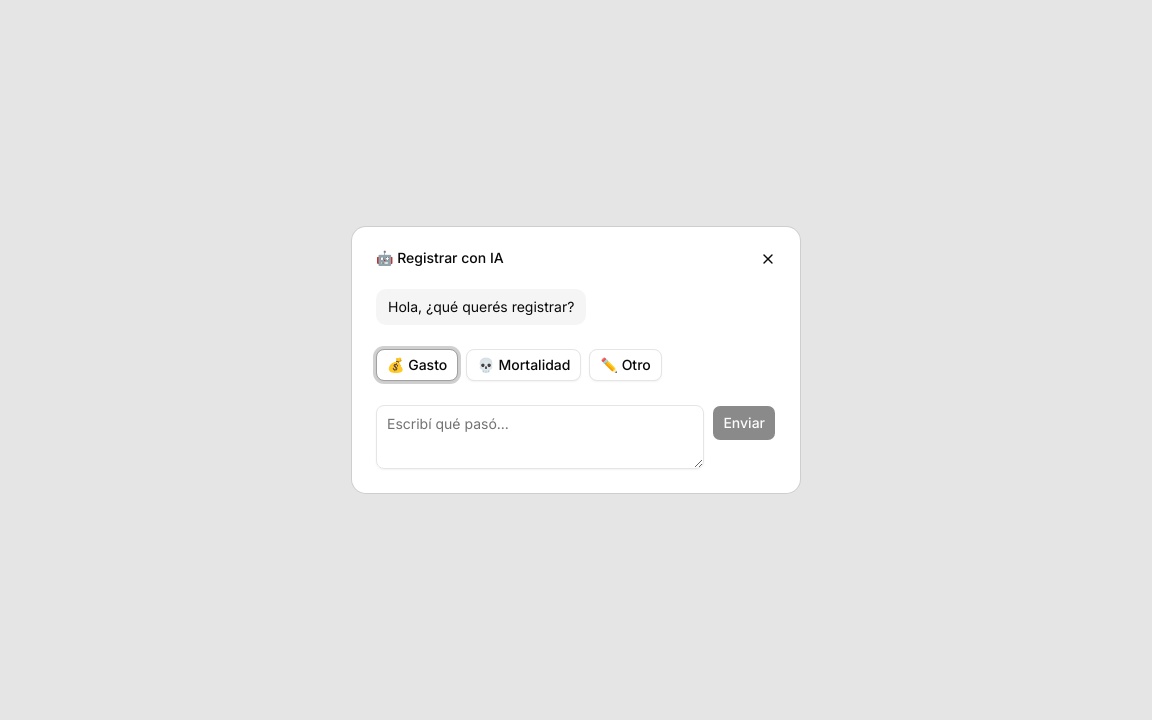
Test: RegistrarConIAModal — C1 wire-up backend integration state transitions chat-like › query resolves logMortality → confirm-card bubble rendered con count + cause + DD/MM/YYYY + lotName
Type "15 muertes pollos" into the text box.
click(540, 437); type("15 muertes pollos")  # box [376, 405, 704, 469]
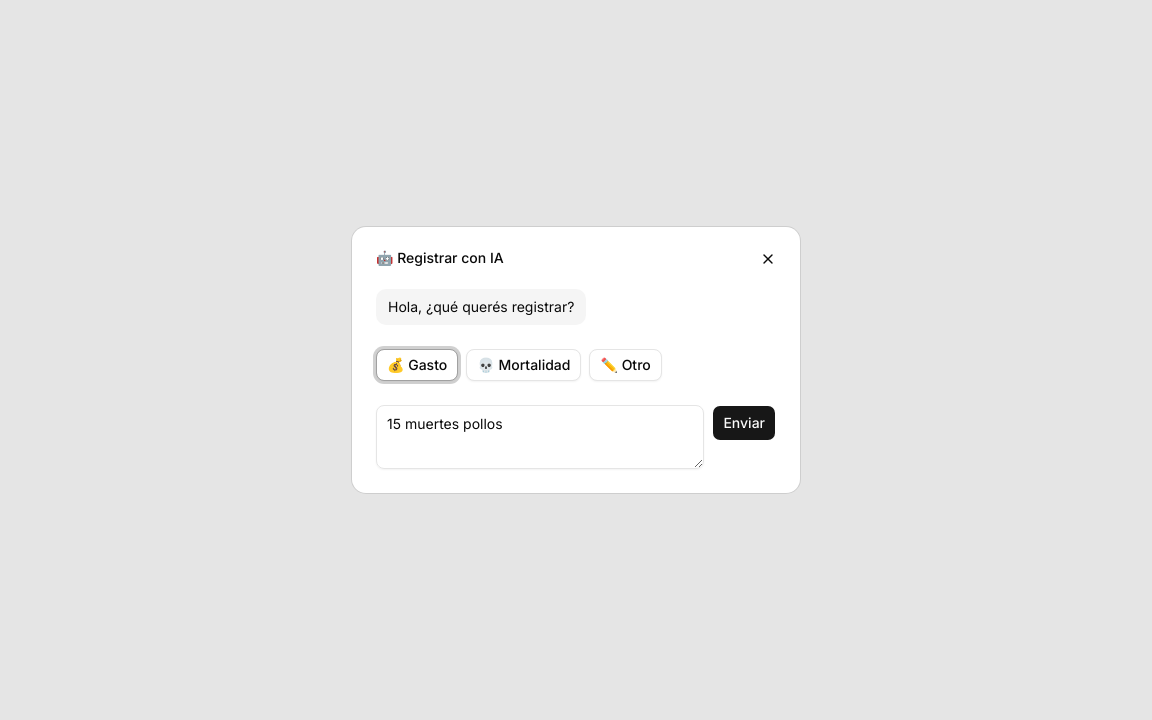
Click the button "Enviar".
click(744, 423)  # box [712, 405, 776, 441]
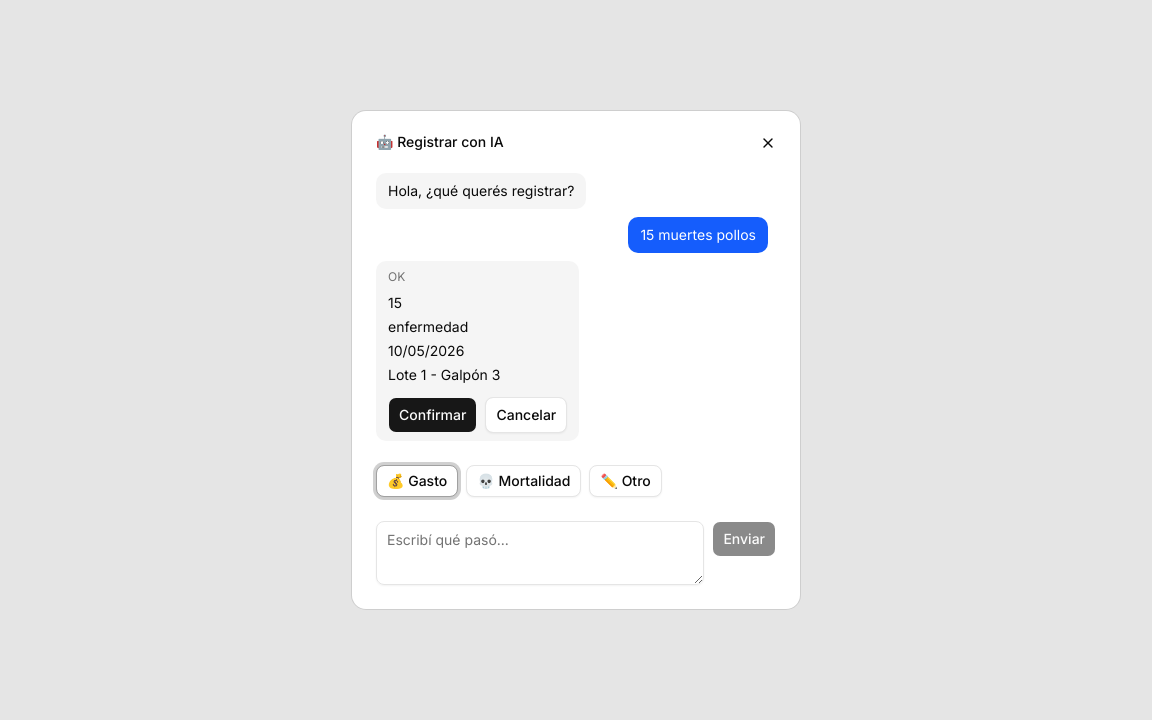
Expected: the text "15 muertes pollos" is shown, [628, 217, 768, 253]
Expected: the text "enfermedad" is shown, [388, 318, 468, 335]
Expected: the text "10/05/2026" is shown, [388, 342, 464, 359]
